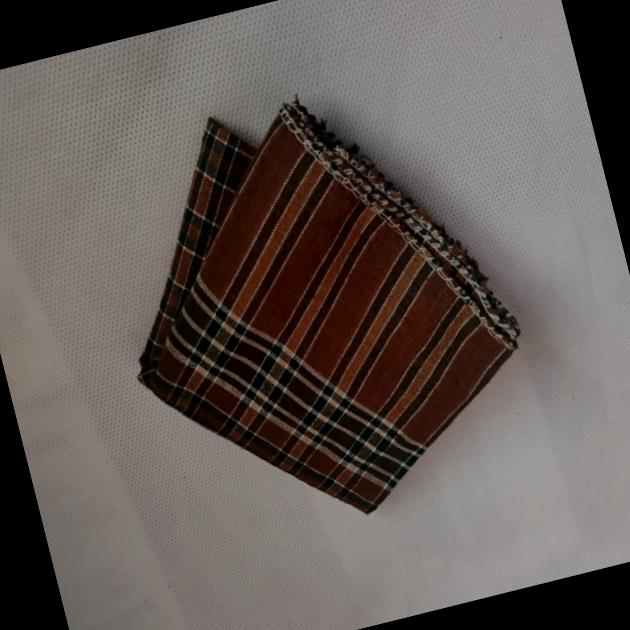kerchief: (66, 40, 574, 519)
